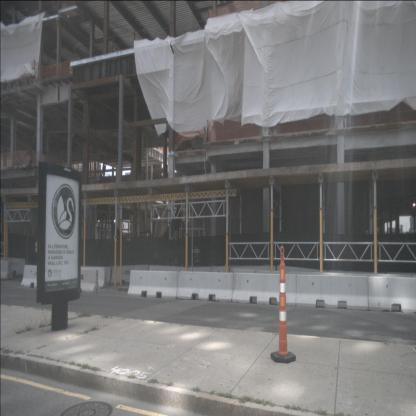movable_object-trafficcone: (270, 246, 296, 364)
